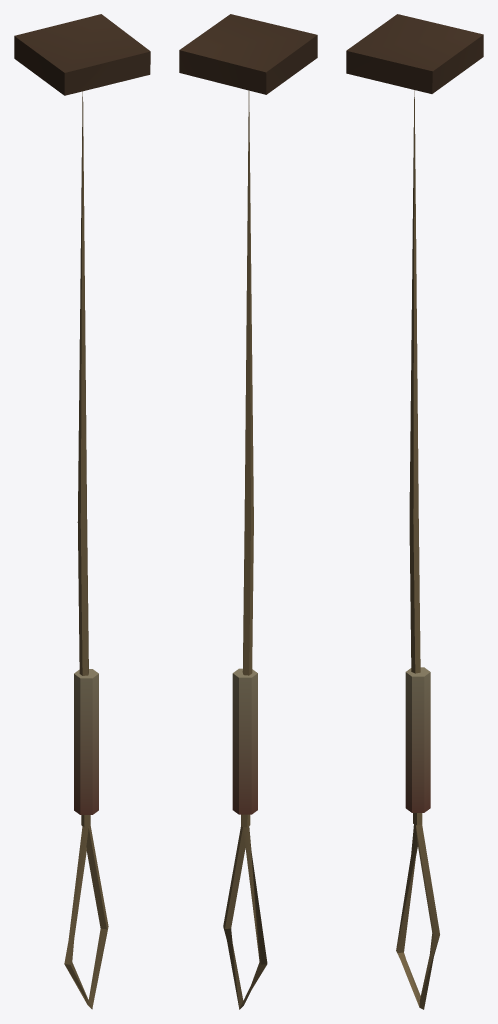
File: ph_int_bell_rope.glb
3 views of the same model, side by side, from view 1: azimuth 30°, elevation 25°; view 2: azimuth 150°, elevation 25°; view 3: azimuth 330°, elevation 25° (orthographic).
Parts seen in each view (by area): view 1: ph_int_bell_rope; view 2: ph_int_bell_rope; view 3: ph_int_bell_rope.
Part boxes in pixels (box(x1,y1,x2,y2)): ph_int_bell_rope: box(14, 14, 150, 1009); ph_int_bell_rope: box(179, 14, 317, 1009); ph_int_bell_rope: box(346, 14, 483, 1009).
Size of the model in its own units: 0.2408 by 2.55 by 0.2431.
